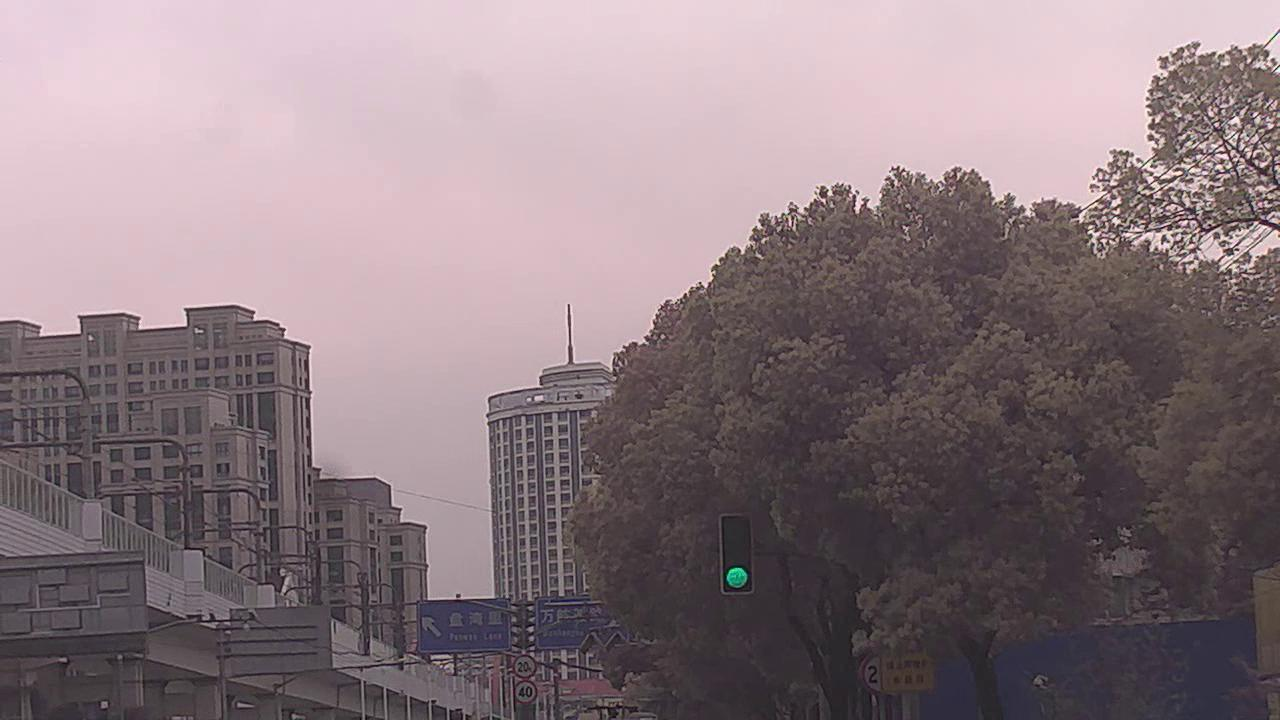traffic_light: (721, 511, 758, 592)
